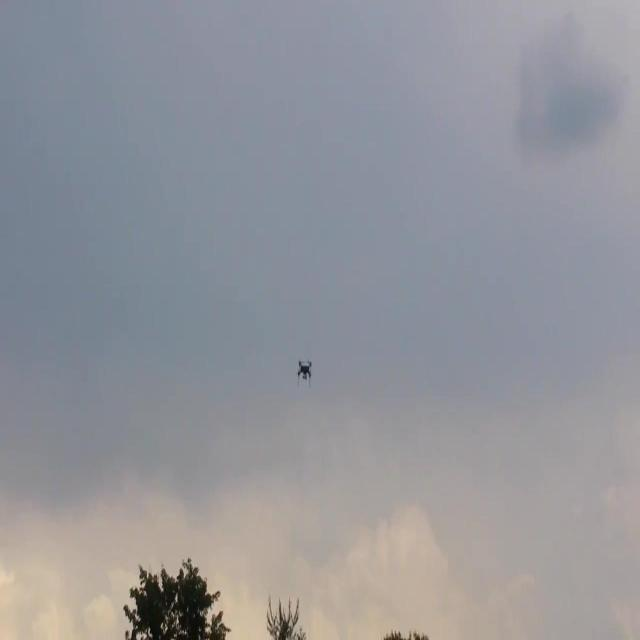drone: (296, 356, 312, 386)
